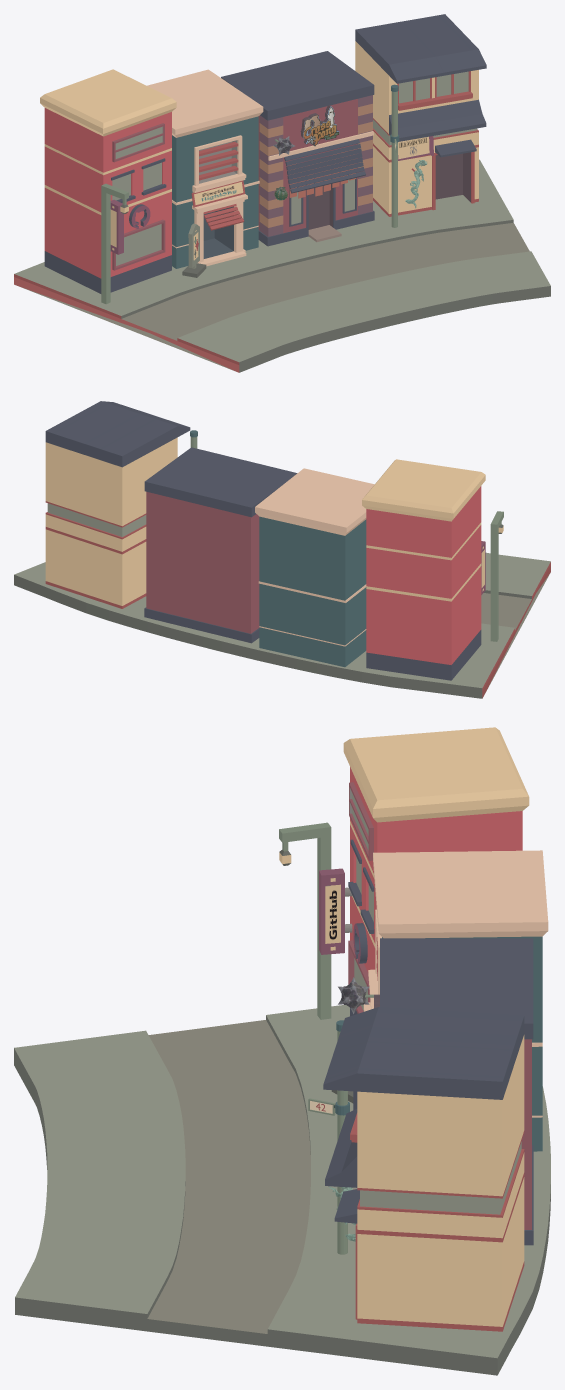
3 views of the same model, one above another, from view 1: azimuth 30°, elevation 25°; view 2: azimuth 150°, elevation 25°; view 3: azimuth 270°, elevation 25° (orthographic). The views are drawn at different scales.
Visible parts, largest first — view 1: Road, BuildingGithub, BuildingCrossPong, BuildingDragon, BuildingNightSky, StreetLight, StreetSign, AdSign; view 2: BuildingGithub, BuildingDragon, BuildingCrossPong, BuildingNightSky, Road, StreetLight; view 3: Road, BuildingDragon, BuildingGithub, BuildingNightSky, BuildingCrossPong, StreetLight, StreetSign.
Part boxes in pixels (x1,y1,x2,y2): Road: (14,159,550,372); BuildingGithub: (40,69,176,293); BuildingCrossPong: (221,51,374,246); BuildingDragon: (355,14,486,216); BuildingNightSky: (147,69,263,268); StreetLight: (101,183,128,304); StreetSign: (390,84,399,227); AdSign: (182,223,206,277); BuildingGithub: (362,459,485,680); BuildingDragon: (45,401,190,608); BuildingCrossPong: (144,447,297,643); BuildingNightSky: (255,468,374,667); Road: (14,552,550,698); StreetLight: (490,511,503,641); Road: (14,1005,550,1375); BuildingDragon: (323,1007,524,1331); BuildingGithub: (319,727,529,1016); BuildingNightSky: (363,850,548,1151); BuildingCrossPong: (338,938,533,1245); StreetLight: (279,822,331,1019); StreetSign: (308,1020,349,1254).
Bounding box in the file's own units: 24.85 × 9.31 × 15.12.
1 material, 1 textured.
